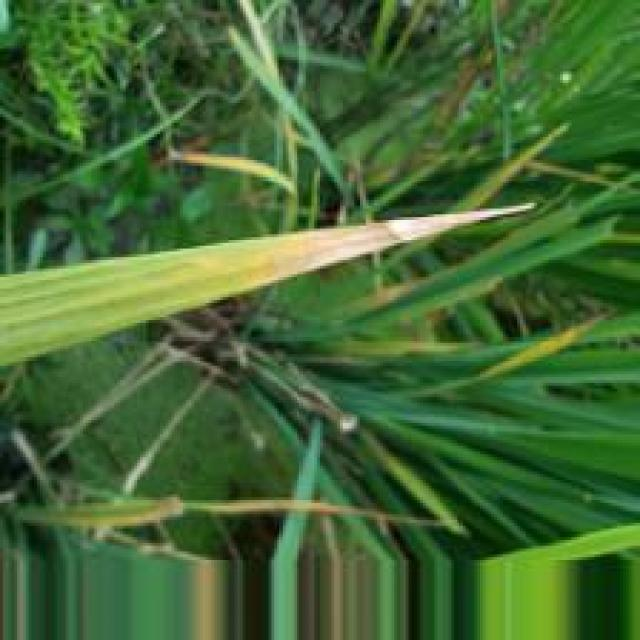Leaf_Scald: (271, 201, 531, 285)
